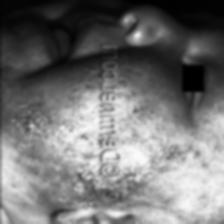Non-Cancerous Skin Condition: (0, 78, 180, 206), (46, 212, 92, 224)
